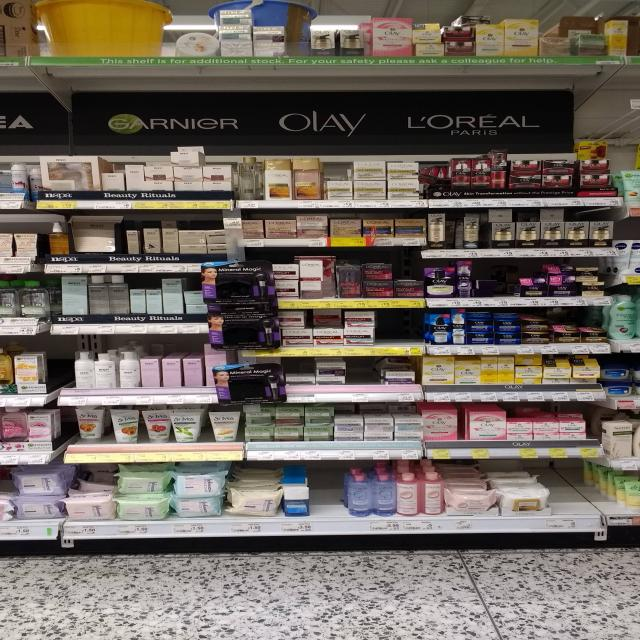100- O.O.S: (551, 463, 590, 528), (311, 466, 344, 532), (379, 310, 422, 356), (347, 358, 373, 402)
